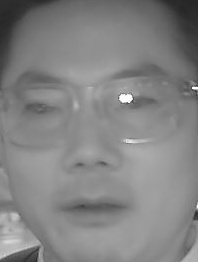eye: (24, 99, 59, 118)
glass: (96, 74, 177, 143), (5, 84, 77, 145)
mouth: (59, 187, 124, 228)
